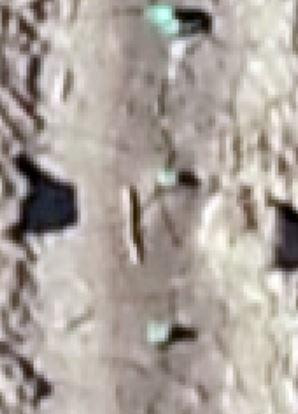cotton: (150, 6, 173, 31), (148, 320, 169, 341), (159, 170, 177, 187)
